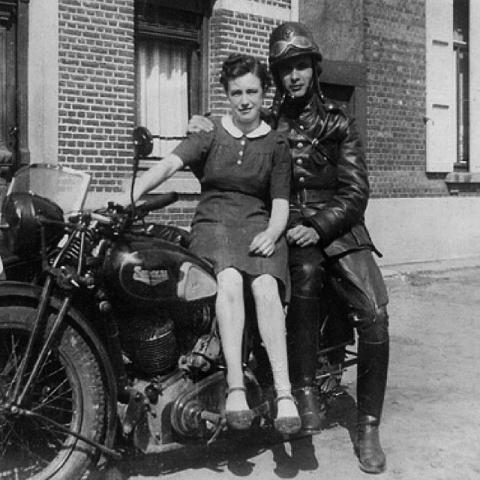motorcycle: (1, 129, 361, 475)
